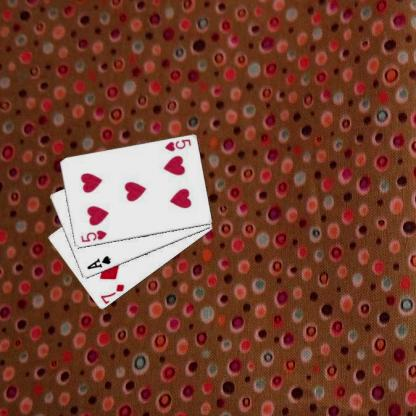5H: (78, 228, 108, 244), (162, 136, 192, 152)
7D: (97, 281, 126, 305)
AS: (84, 254, 112, 271)
